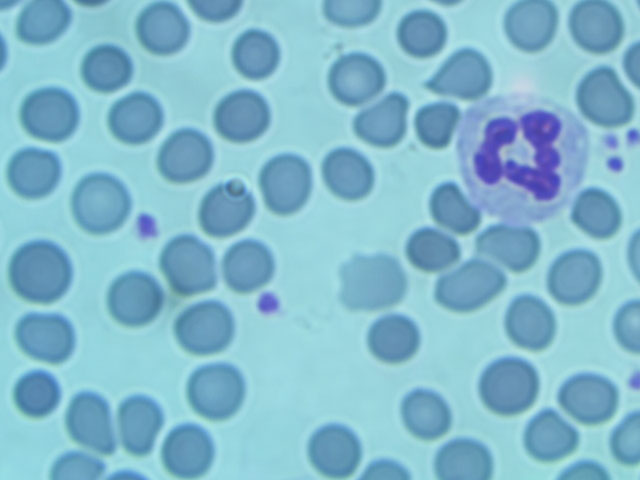Platelets: (594, 121, 640, 173), (253, 283, 286, 316), (131, 209, 163, 240)
RBC: (70, 172, 129, 231), (156, 128, 215, 187), (502, 292, 561, 351), (439, 261, 498, 320), (109, 89, 168, 148), (6, 138, 65, 197), (23, 86, 82, 145), (77, 39, 136, 98), (134, 2, 193, 61), (326, 51, 385, 110), (396, 8, 455, 67), (432, 43, 491, 102), (259, 151, 318, 210), (317, 146, 376, 205), (353, 92, 412, 151), (177, 297, 236, 356), (197, 181, 256, 240), (217, 238, 276, 297), (158, 235, 217, 294), (106, 271, 165, 330), (10, 238, 69, 297), (17, 302, 76, 361), (5, 364, 64, 423), (343, 254, 402, 313), (361, 311, 420, 370), (115, 392, 174, 451), (58, 394, 117, 453), (187, 359, 246, 418), (547, 247, 606, 306), (424, 179, 483, 238), (477, 356, 536, 415), (569, 184, 628, 243), (577, 68, 636, 127), (227, 25, 286, 84), (304, 421, 363, 480), (399, 386, 458, 445), (521, 410, 580, 469), (560, 368, 619, 427), (567, 1, 626, 59), (501, 1, 560, 59), (213, 86, 270, 141), (409, 97, 459, 154), (402, 227, 454, 280)
WBC: (464, 95, 586, 220)
